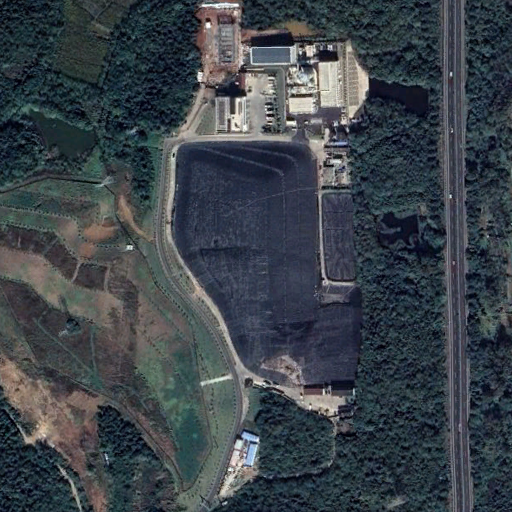lf: (171, 140, 360, 394)
